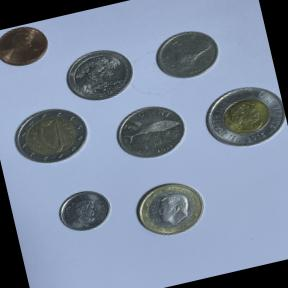1 Euro-B: (125, 171, 212, 246)
2 Euro-B: (2, 97, 96, 174)
Canada-10cent-B: (48, 181, 119, 243)
Canada-2Dollar-B: (193, 73, 288, 160)
Croatia-2Kune-B: (107, 95, 194, 168)
US-1cent-B: (0, 19, 55, 74)
US-25cent-B: (57, 41, 141, 109)
